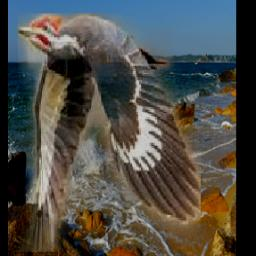Woodpecker: (19, 13, 202, 252)
